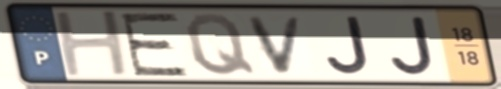E: (117, 11, 192, 78)
H: (51, 8, 135, 80)
J: (388, 14, 438, 77), (324, 14, 374, 77)
Q: (182, 11, 259, 78)
V: (245, 14, 308, 76)
